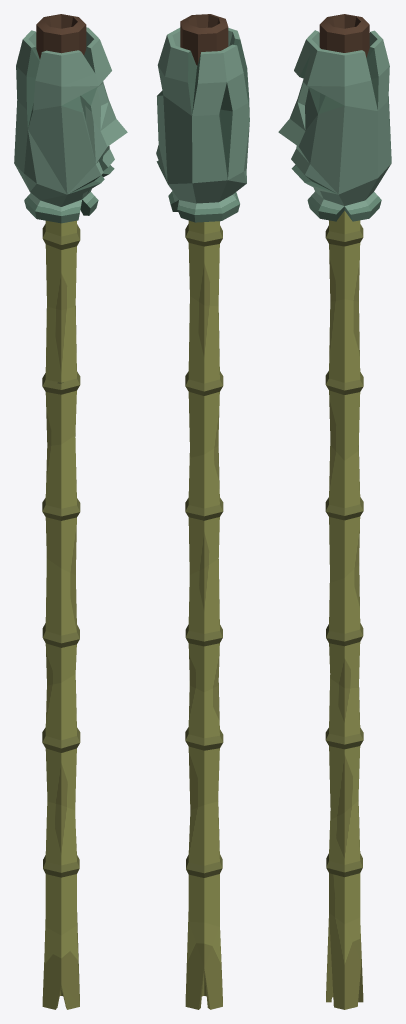
File: SM_Prop_Tiki_Torch_03.fbx
The picture shows the model from 3 angles, left to right: view 1: azimuth 90°, elevation 25°; view 2: azimuth 210°, elevation 25°; view 3: azimuth 270°, elevation 25°; orthographic projection.
Visible parts, largest first — view 1: SM_Prop_Tiki_Torch_03; view 2: SM_Prop_Tiki_Torch_03; view 3: SM_Prop_Tiki_Torch_03.
Boxes of the visible parts, box(x1,y1,x2,y2) form: SM_Prop_Tiki_Torch_03: box(14, 14, 127, 1009); SM_Prop_Tiki_Torch_03: box(156, 14, 249, 1009); SM_Prop_Tiki_Torch_03: box(278, 14, 391, 1009).
Bounding box in the file's own units: 18.95 × 217 × 22.82.
Materials: 1 (1 with a texture image).
